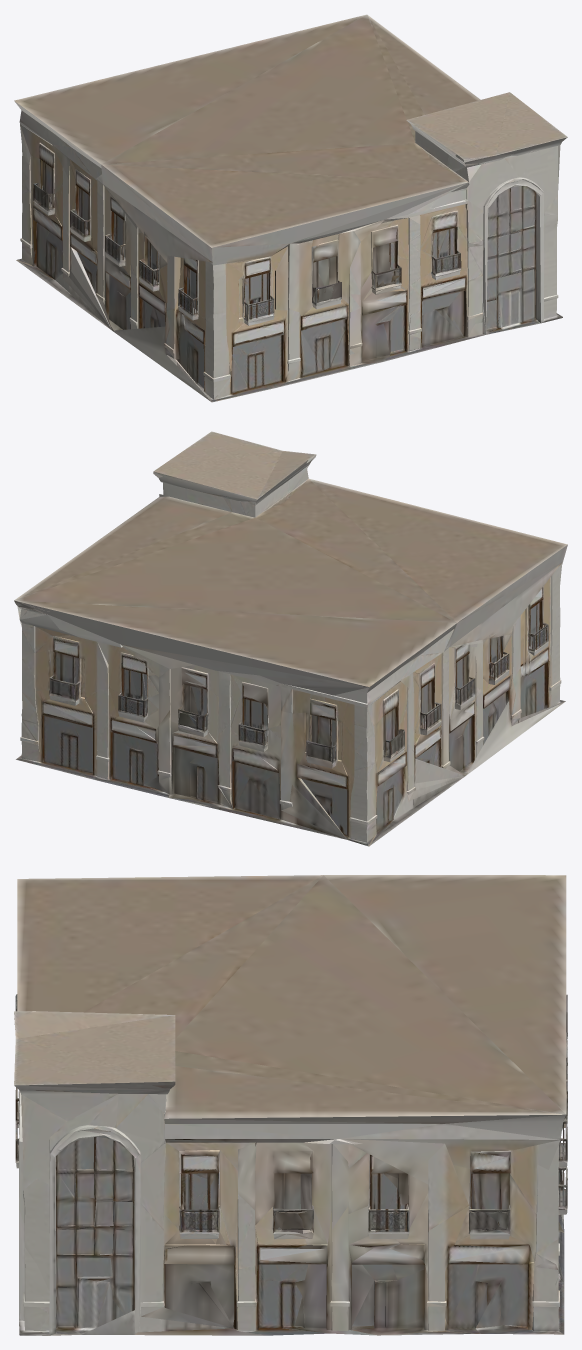
The model's file is mall.glb.
3 views of the same model, one above another, from view 1: azimuth 30°, elevation 25°; view 2: azimuth 150°, elevation 25°; view 3: azimuth 270°, elevation 25° (orthographic). The views are drawn at different scales.
Parts seen in each view (by area): view 1: Mesh_0; view 2: Mesh_0; view 3: Mesh_0.
Boxes of the visible parts, bbox=[...] form: Mesh_0: bbox=[14, 14, 567, 402]; Mesh_0: bbox=[14, 431, 567, 846]; Mesh_0: bbox=[14, 875, 567, 1335].
Size of the model in its own units: 20.1 by 9.94 by 19.46.
Materials: 1 (1 with a texture image).
